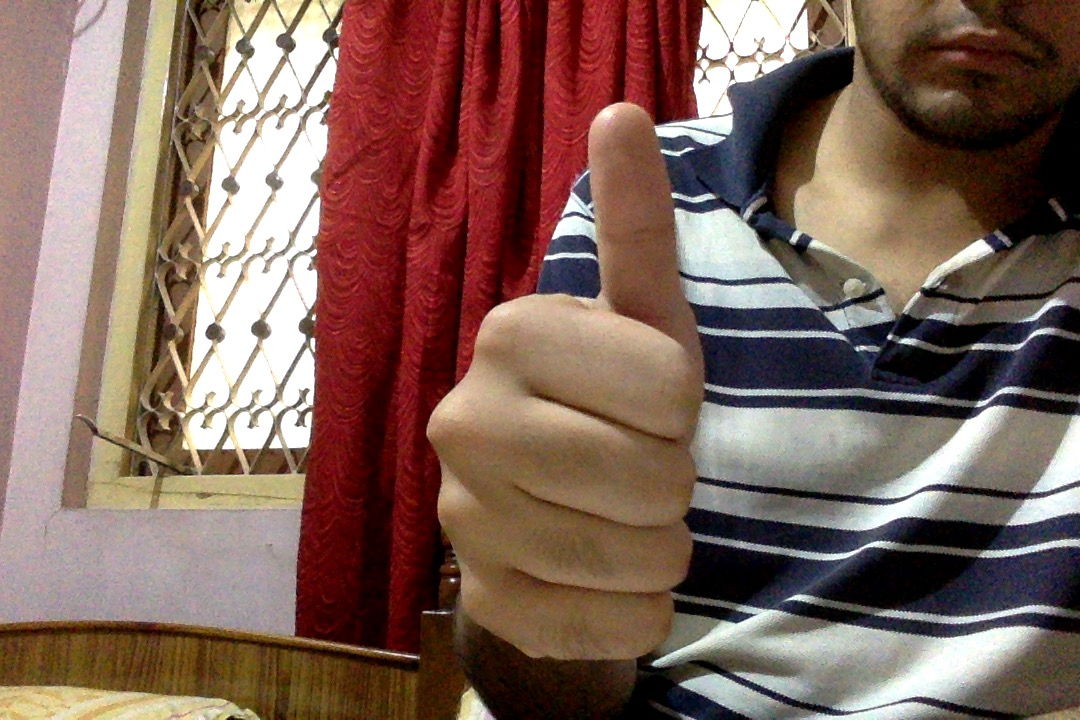hand: (441, 127, 763, 665)
